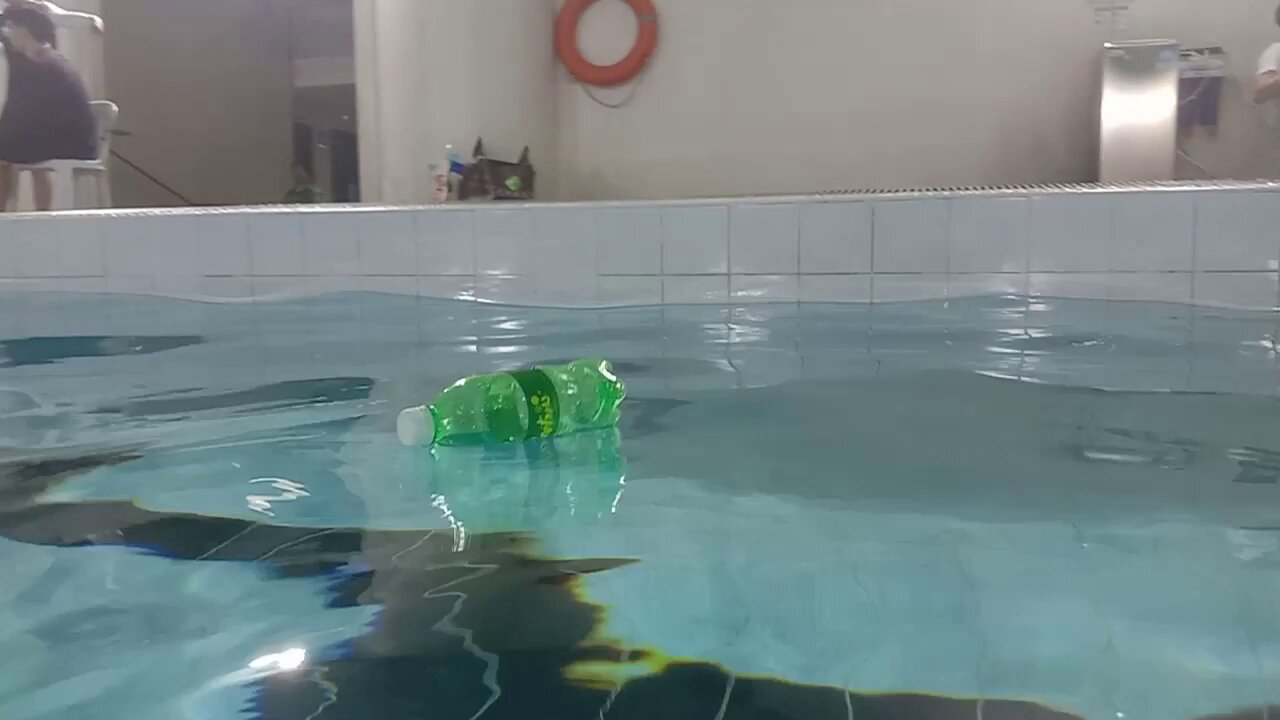plastic_bottle: (396, 356, 622, 448)
